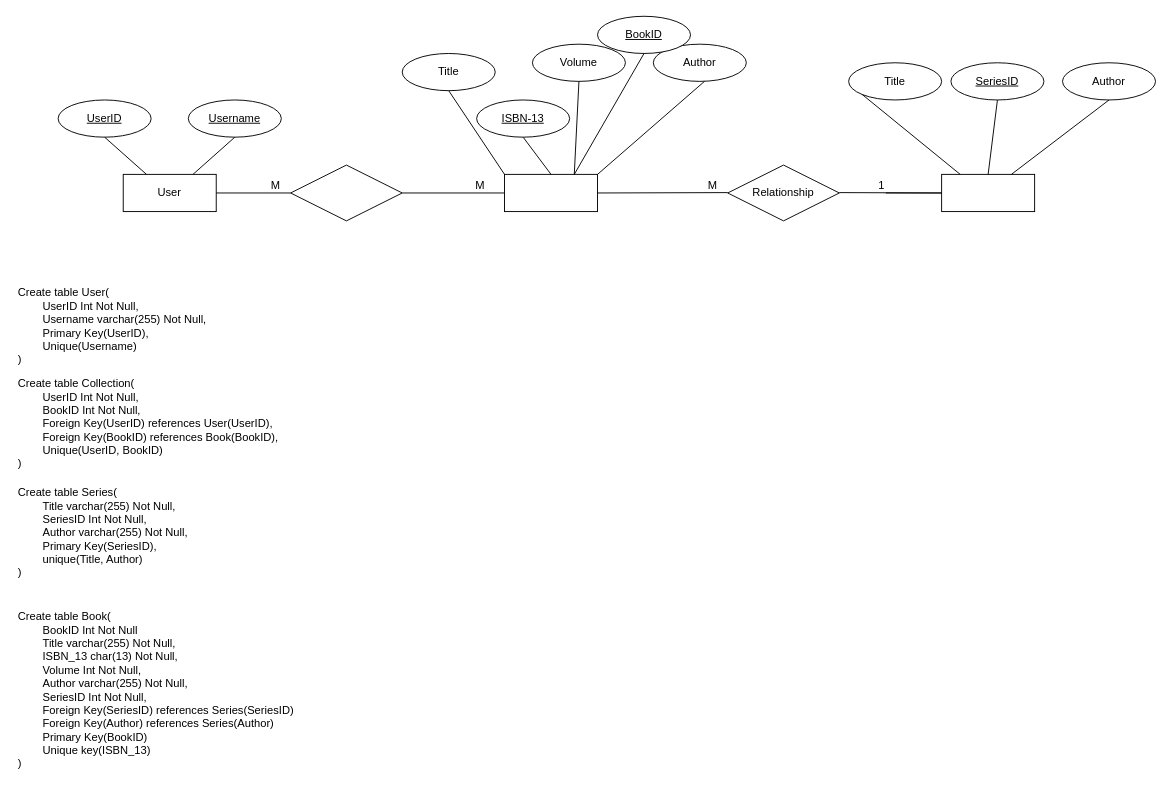
This 1172x795 diagram has some shape labels left out. Each missing label, with the centre of its shape:
"Book" belongs at point 551,192.
"Collection" belongs at point 346,192.
"Series" belongs at point 988,192.
